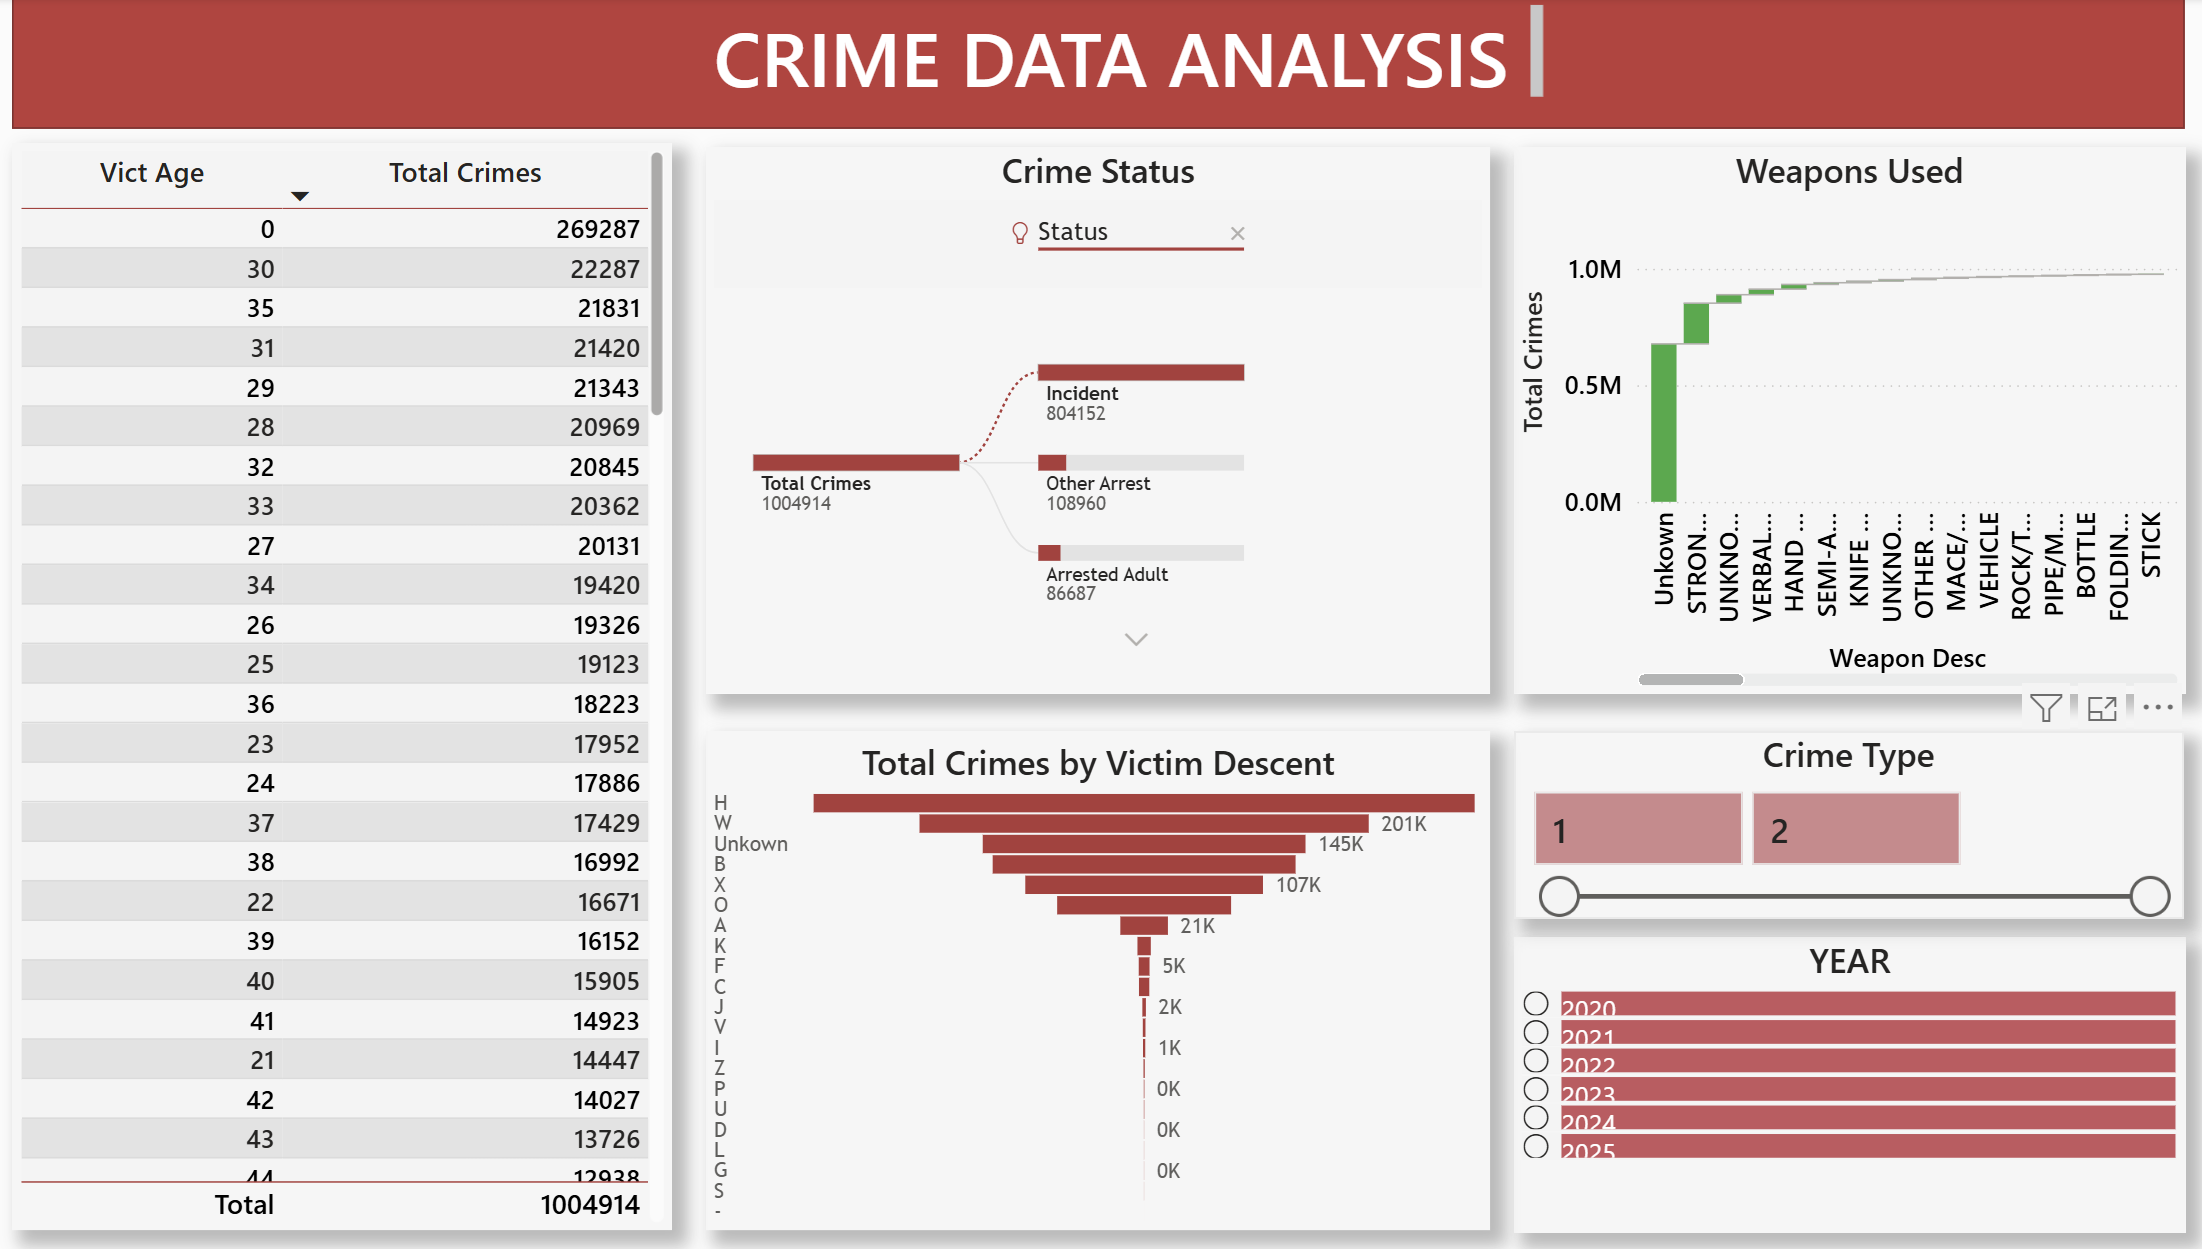

This screenshot's page, from the dashboard's own definition file:
{"tool":"powerbi","page":{"name":"Page 2","canvas":[1400,800],"ordinal":1},"visuals":[{"type":"shape","box":[9,0,1373,83.3],"z":0},{"type":"textbox","box":[447.6,0,534.1,71.1],"z":1000},{"type":"funnel","title":"Total Crimes by Victim Descent","fields":{"Category":["Crime_Data_from_2020_to_Present.Vict Descent"],"Y":["Crime_Data_from_2020_to_Present.Total Crimes"]},"box":[447.1,464.3,495.7,315.7],"z":2000},{"type":"tableEx","fields":{"Values":["Crime_Data_from_2020_to_Present.Vict Age","Crime_Data_from_2020_to_Present.Total Crimes"]},"box":[8.6,92.9,417.1,687.1],"z":3000},{"type":"decompositionTreeVisual","title":"Crime Status","fields":{"ExplainBy":["Crime_Data_from_2020_to_Present.Status"],"Analyze":["Crime_Data_from_2020_to_Present.Total Crimes"]},"box":[447.1,94.3,495.7,345.7],"z":4000},{"type":"waterfallChart","title":"Weapons Used","fields":{"Y":["Crime_Data_from_2020_to_Present.Total Crimes"],"Category":["Crime_Data_from_2020_to_Present.Weapon Desc"]},"box":[958.6,94.3,424.3,345.7],"z":5000},{"type":"slicer","title":"Crime Type","fields":{"Values":["Crime_Data_from_2020_to_Present.Part 1-2"]},"box":[958.6,464.3,422.9,118.6],"z":6000},{"type":"listSlicer","title":"YEAR","fields":{"Values":["Crime_Data_from_2020_to_Present.Year"]},"box":[958.6,594.3,424.3,187.1],"z":7000}]}

Visuals, with their boxes in screenshot pixels (x1, y1, x2, y2), scaled from the page's 1400x800 canvas onto the 2202x1249 screenshot:
shape: BBox(14, 0, 2174, 130)
textbox: BBox(704, 0, 1544, 111)
"Total Crimes by Victim Descent" funnel: BBox(703, 725, 1483, 1218)
tableEx - Crime_Data_from_2020_to_Present.Vict Age x Crime_Data_from_2020_to_Present.Total Crimes: BBox(14, 145, 670, 1218)
"Crime Status" decompositionTreeVisual: BBox(703, 147, 1483, 687)
"Weapons Used" waterfallChart: BBox(1508, 147, 2175, 687)
"Crime Type" slicer: BBox(1508, 725, 2173, 910)
"YEAR" listSlicer: BBox(1508, 928, 2175, 1220)
